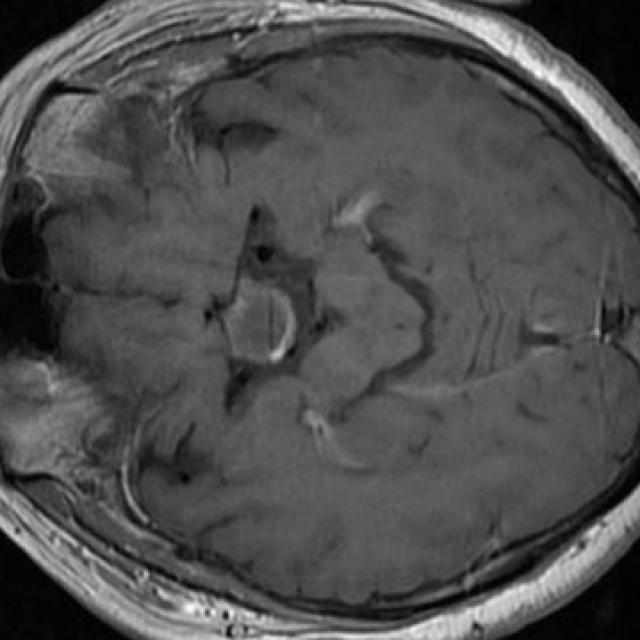pituitary: (223, 285, 296, 364)
